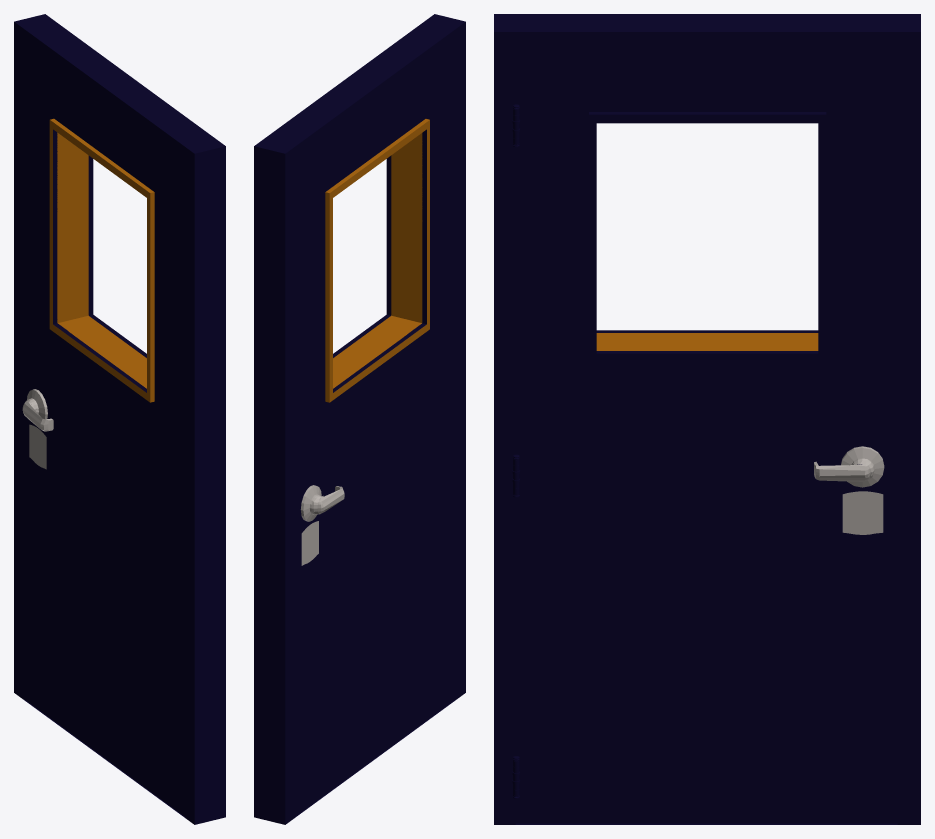
The model's file is PuertaEntreL1yL2_BrunoM_46955947.fbx.
3 views of the same model, side by side, from view 1: azimuth 30°, elevation 25°; view 2: azimuth 150°, elevation 25°; view 3: azimuth 270°, elevation 25° (orthographic). The views are drawn at different scales.
Visible parts, largest first — view 1: PUERTA_MARCO; view 2: PUERTA_MARCO; view 3: PUERTA_MARCO.
Part boxes in pixels (x1,y1,x2,y2): PUERTA_MARCO: (14,14,225,824); PUERTA_MARCO: (254,14,465,824); PUERTA_MARCO: (494,14,920,824).
Size of the model in its own units: 41.1 by 410 by 200.
3 materials, 1 textured.
